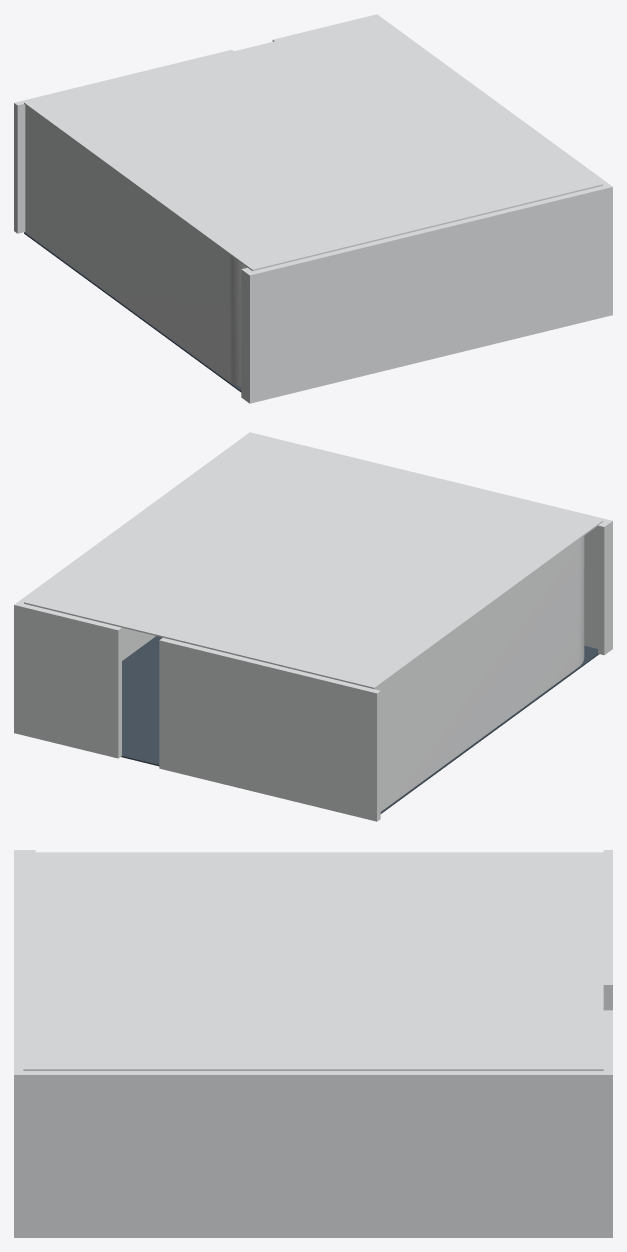
The model's file is Sala_MLR.fbx.
3 renders of one model, top to bottom at view 1: azimuth 30°, elevation 25°; view 2: azimuth 150°, elevation 25°; view 3: azimuth 270°, elevation 25°, orthographic. The views are drawn at different scales.
Parts seen in each view (by area): view 1: Ceiling_Slab_Original, Walls_MainShell_Original, Projection_Wall_Panorama, EntryWall_Left_Original, Floor_Slab_Original; view 2: Ceiling_Slab_Original, EntryWall_Left_Original, Projection_Wall_Panorama, EntryWall_Right_Original, Walls_MainShell_Original, Floor_Slab_Original; view 3: Ceiling_Slab_Original, Walls_MainShell_Original, EntryWall_Right_Original, EntryWall_Left_Original.
Part boxes in pixels (x1=…): Ceiling_Slab_Original: x1=24, y1=17, x2=602, y2=271; Walls_MainShell_Original: x1=241, y1=17, x2=612, y2=403; Projection_Wall_Panorama: x1=25, y1=105, x2=247, y2=387; EntryWall_Left_Original: x1=14, y1=49, x2=233, y2=233; Floor_Slab_Original: x1=24, y1=232, x2=241, y2=392; Ceiling_Slab_Original: x1=24, y1=435, x2=602, y2=689; EntryWall_Left_Original: x1=159, y1=637, x2=380, y2=821; Projection_Wall_Panorama: x1=122, y1=536, x2=584, y2=811; EntryWall_Right_Original: x1=14, y1=602, x2=121, y2=758; Walls_MainShell_Original: x1=18, y1=432, x2=612, y2=655; Floor_Slab_Original: x1=121, y1=636, x2=599, y2=813; Ceiling_Slab_Original: x1=23, y1=852, x2=603, y2=1070; Walls_MainShell_Original: x1=14, y1=850, x2=603, y2=1237; EntryWall_Right_Original: x1=603, y1=1010, x2=612, y2=1237; EntryWall_Left_Original: x1=603, y1=850, x2=612, y2=1010.
Bounding box in the file's own units: 8 × 2.76 × 9.
